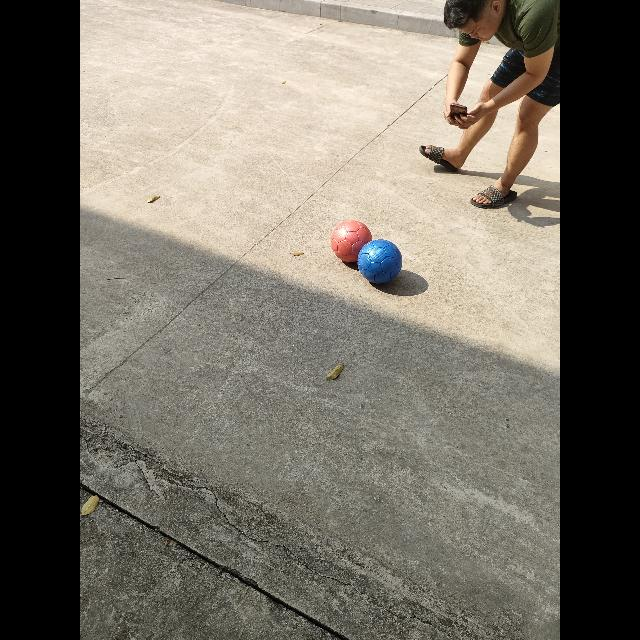B: (358, 239, 403, 283)
R: (331, 220, 372, 262)
